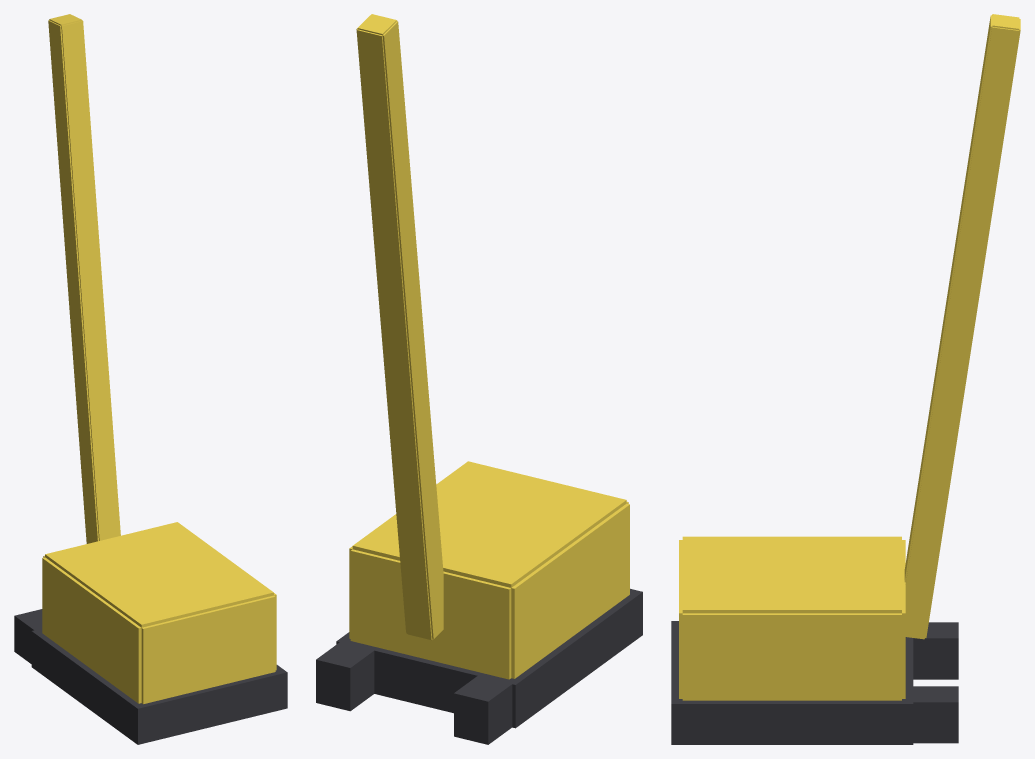
Rendered from crane_arm.glb.
3 views of the same model, side by side, from view 1: azimuth 30°, elevation 25°; view 2: azimuth 150°, elevation 25°; view 3: azimuth 270°, elevation 25° (orthographic). The views are drawn at different scales.
Parts seen in each view (by area): view 1: crane_arm; view 2: crane_arm; view 3: crane_arm.
Part boxes in pixels (x1,y1,x2,y2): crane_arm: [14, 14, 287, 744]; crane_arm: [316, 14, 642, 744]; crane_arm: [671, 14, 1020, 744].
Size of the model in its own units: 2.6 by 9.98 by 4.62.
